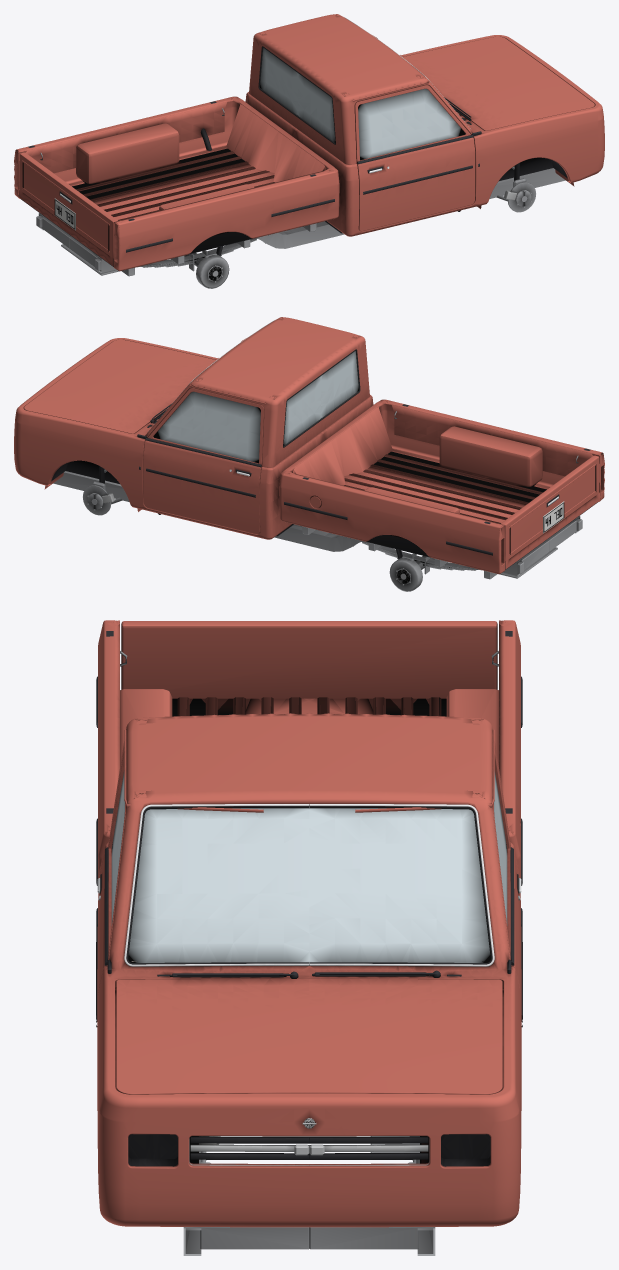
The model's file is pickup.glb.
3 views of the same model, one above another, from view 1: azimuth 30°, elevation 25°; view 2: azimuth 150°, elevation 25°; view 3: azimuth 270°, elevation 25° (orthographic). The views are drawn at different scales.
Parts seen in each view (by area): view 1: BODY, P_hood, P_door_FR, UNDER, PG_door_FR, P_trunk, GLASS; view 2: BODY, P_hood, P_door_FL, UNDER, PG_door_FL, P_trunk, GLASS; view 3: BODY, GLASS, P_hood, P_trunk, UNDER, P_door_FL, P_door_FR, PG_door_FL, PG_door_FR.
Boxes of the visible parts, bbox=[...] form: BODY: bbox=[14, 14, 604, 271]; P_hood: bbox=[403, 36, 594, 130]; P_door_FR: bbox=[354, 84, 475, 231]; UNDER: bbox=[21, 128, 567, 288]; PG_door_FR: bbox=[358, 88, 465, 160]; P_trunk: bbox=[19, 152, 117, 258]; GLASS: bbox=[260, 48, 335, 142]; BODY: bbox=[14, 317, 604, 574]; P_hood: bbox=[24, 339, 215, 433]; P_door_FL: bbox=[143, 387, 264, 534]; UNDER: bbox=[51, 460, 597, 591]; PG_door_FL: bbox=[153, 391, 260, 463]; P_trunk: bbox=[501, 455, 599, 561]; GLASS: bbox=[283, 351, 358, 445]; BODY: bbox=[96, 620, 522, 1227]; GLASS: bbox=[128, 806, 490, 963]; P_hood: bbox=[116, 979, 502, 1094]; P_trunk: bbox=[121, 621, 497, 698]; UNDER: bbox=[183, 1151, 435, 1255]; P_door_FL: bbox=[493, 748, 522, 1020]; P_door_FR: bbox=[96, 748, 125, 1020]; PG_door_FL: bbox=[494, 770, 507, 925]; PG_door_FR: bbox=[111, 770, 124, 925].
Bounding box in the file's own units: 4.48 × 1.41 × 1.68.
